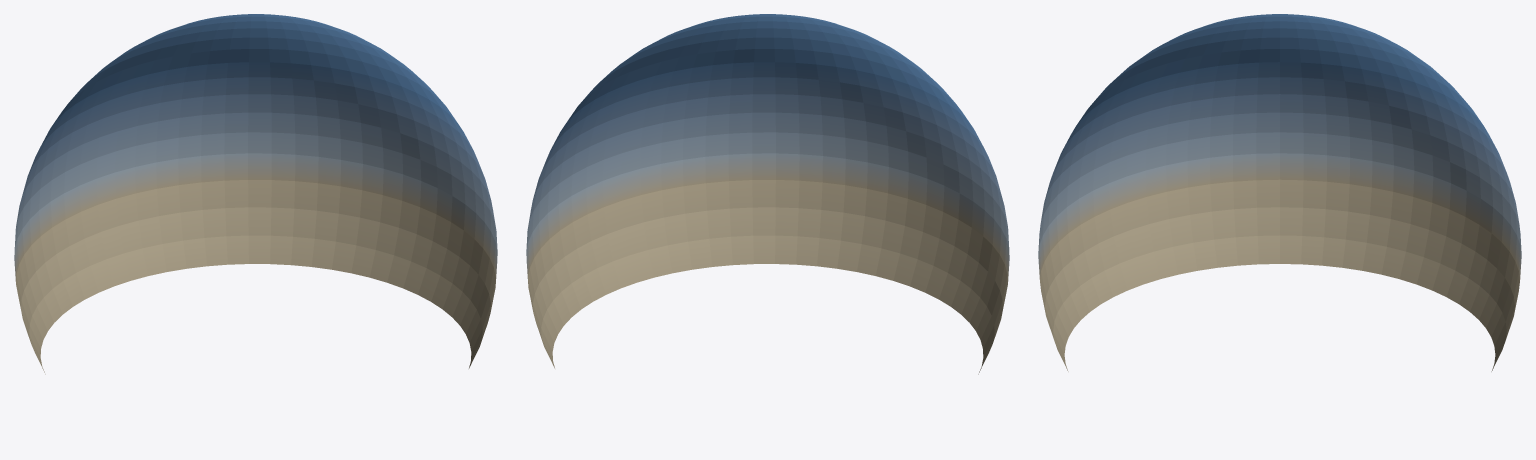
The model's file is sky_dome.glb.
3 views of the same model, side by side, from view 1: azimuth 30°, elevation 25°; view 2: azimuth 150°, elevation 25°; view 3: azimuth 270°, elevation 25° (orthographic).
Parts seen in each view (by area): view 1: geometry_0; view 2: geometry_0; view 3: geometry_0.
Part boxes in pixels (<box>): geometry_0: <box>14,14,497,374</box>; geometry_0: <box>526,14,1009,374</box>; geometry_0: <box>1038,14,1521,371</box>.
Bounding box in the file's own units: 3600 × 2617 × 3600.
